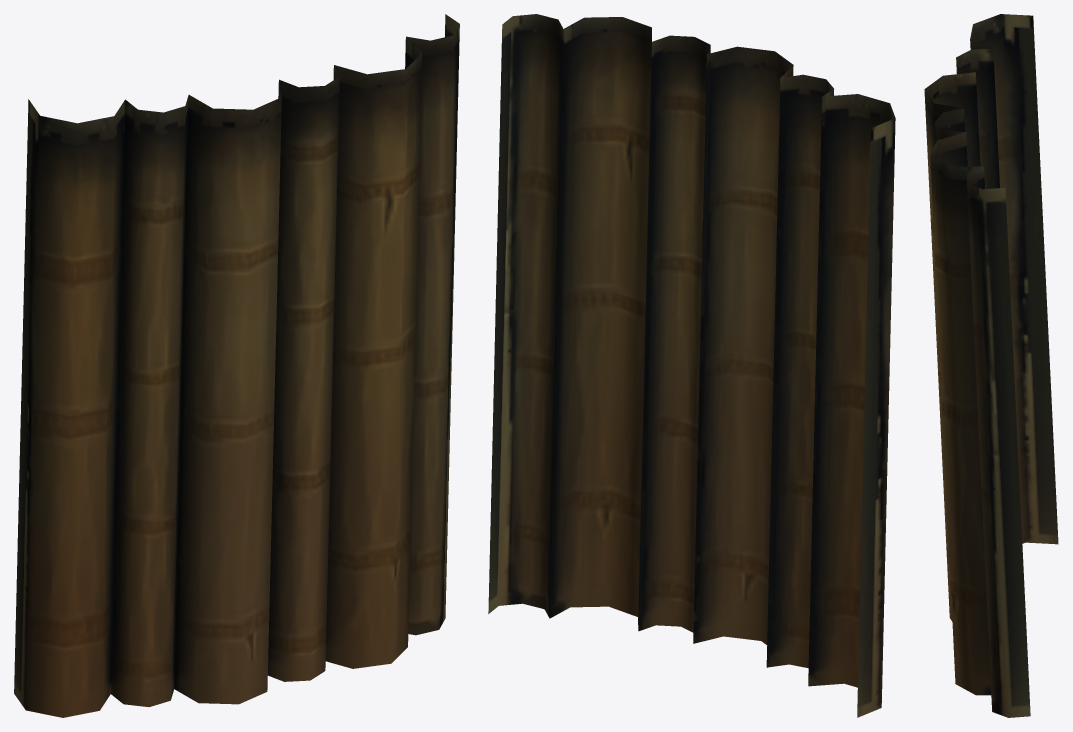
Rendered from bamboo_house_fixed_door.FBX.
The picture shows the model from 3 angles, left to right: view 1: azimuth 30°, elevation 25°; view 2: azimuth 150°, elevation 25°; view 3: azimuth 270°, elevation 25°; orthographic projection. The views are drawn at different scales.
Parts seen in each view (by area): view 1: bamboo_house_fixed_door; view 2: bamboo_house_fixed_door; view 3: bamboo_house_fixed_door.
Part boxes in pixels (bbox=[...]): bamboo_house_fixed_door: bbox=[14, 14, 459, 717]; bamboo_house_fixed_door: bbox=[488, 14, 895, 717]; bamboo_house_fixed_door: bbox=[924, 14, 1058, 717].
Size of the model in its own units: 142 by 201 by 45.91.
